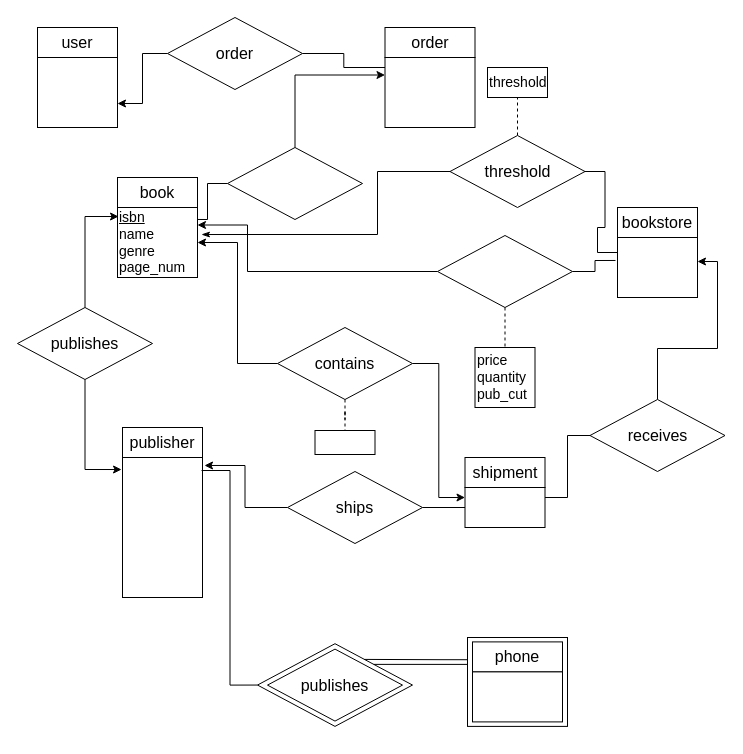
Image size: 743x754. Some labels were removed from this diagram. Here are the shapes that lost their labels. From the top down, the centre of each, then its label:
[77,92]: username password user_id email
[429,92]: order_num tracking_num date store_id
[294,183]: item
[504,271]: carries
[657,267]: store_id store_name
[344,442]: quantity
[162,527]: name country region city street house_num email bank_acc
[504,507]: shipment_id date
[517,696]: name phone_num
